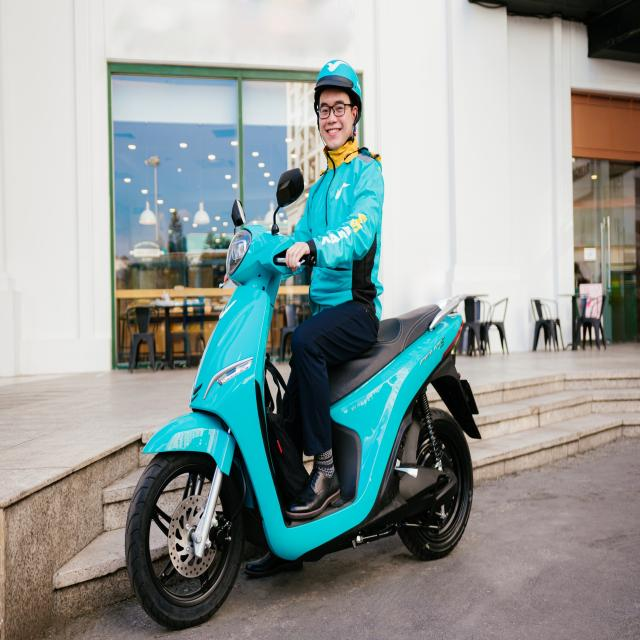helmet: (314, 59, 362, 112)
